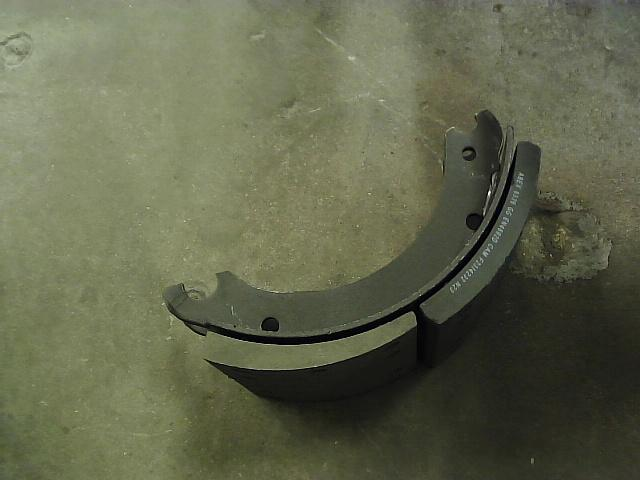brake-shoes: (160, 106, 542, 406)
